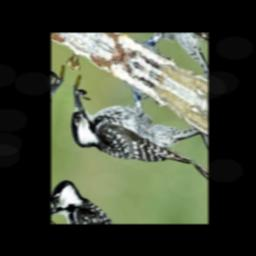Woodpecker: (59, 54, 202, 206)
